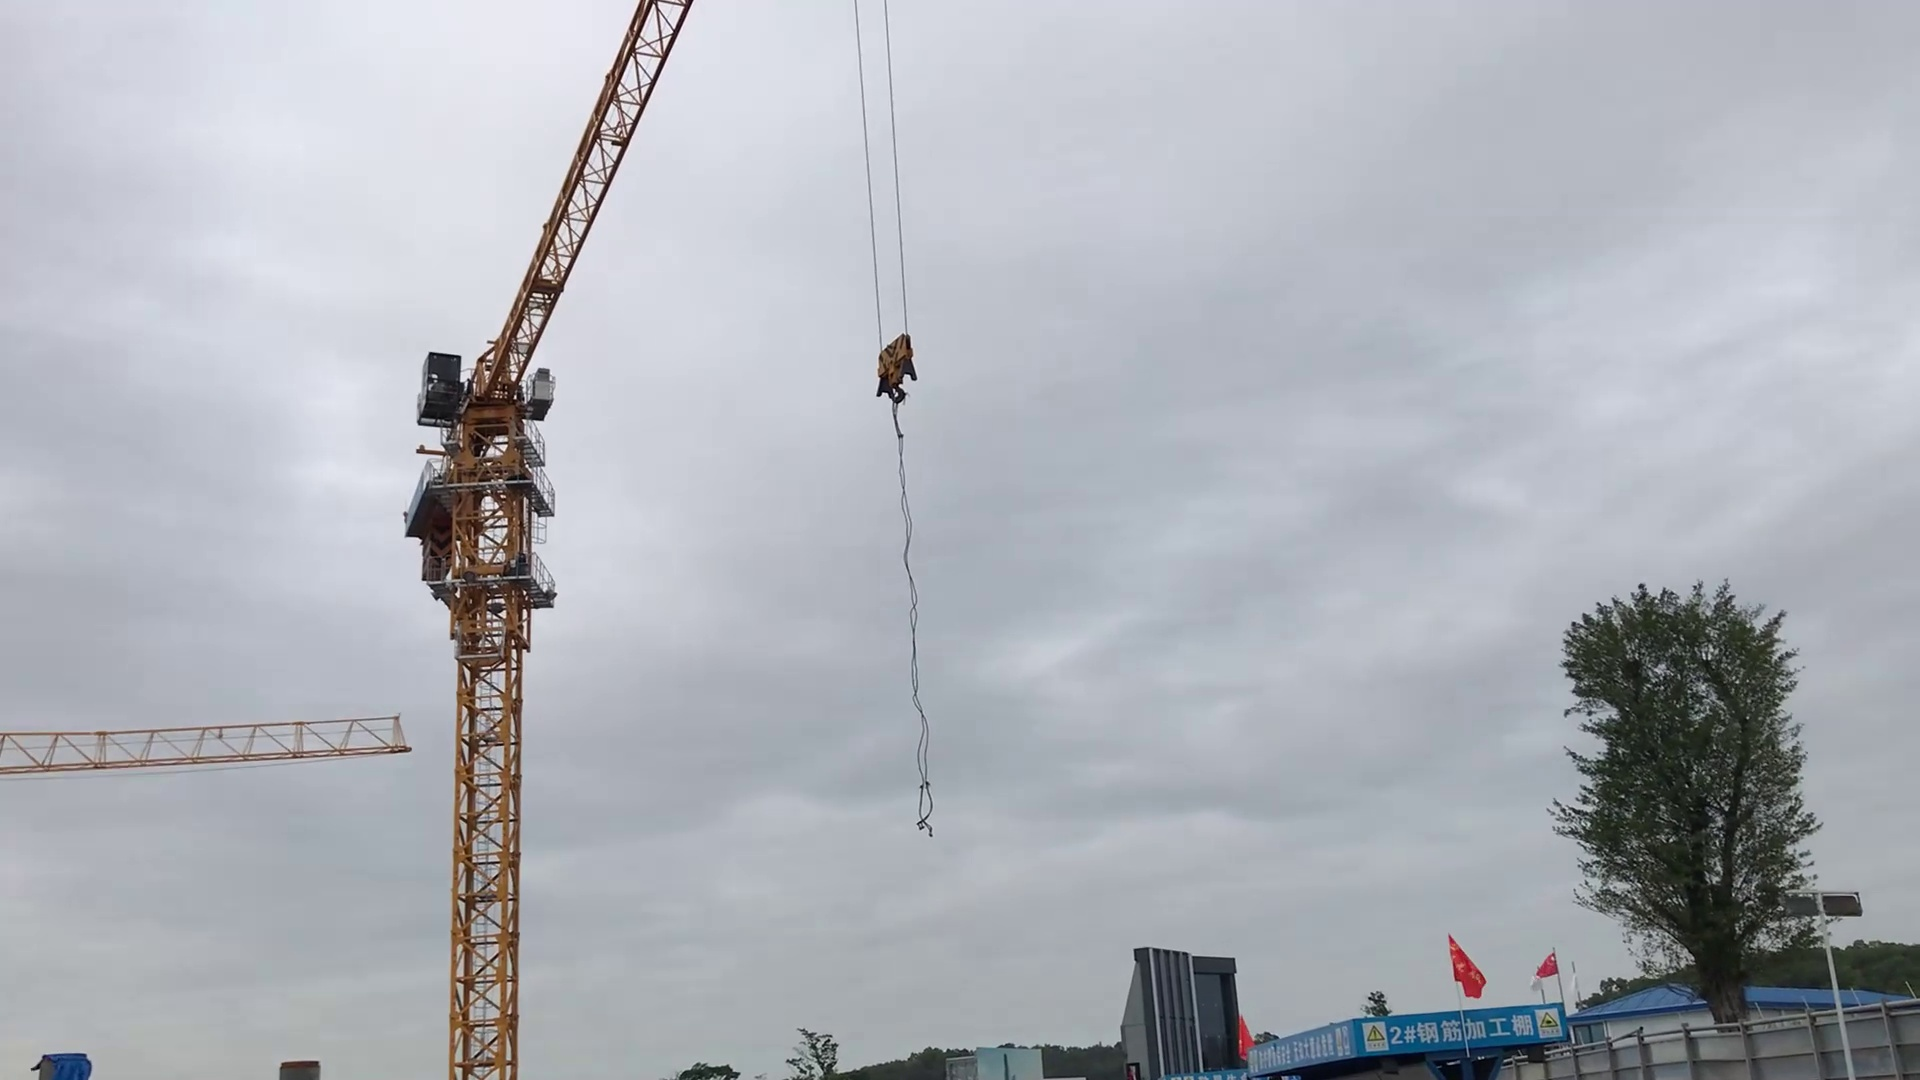hook: (862, 323, 927, 410)
